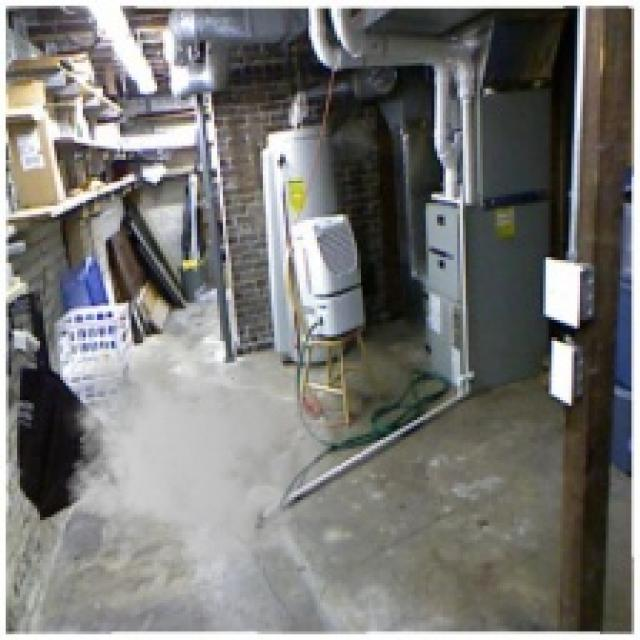smoke: (57, 337, 334, 572)
